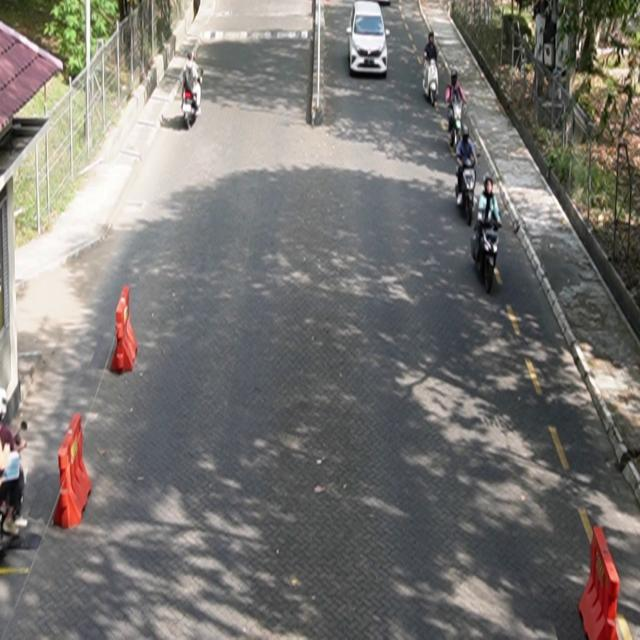car: (347, 1, 390, 78)
